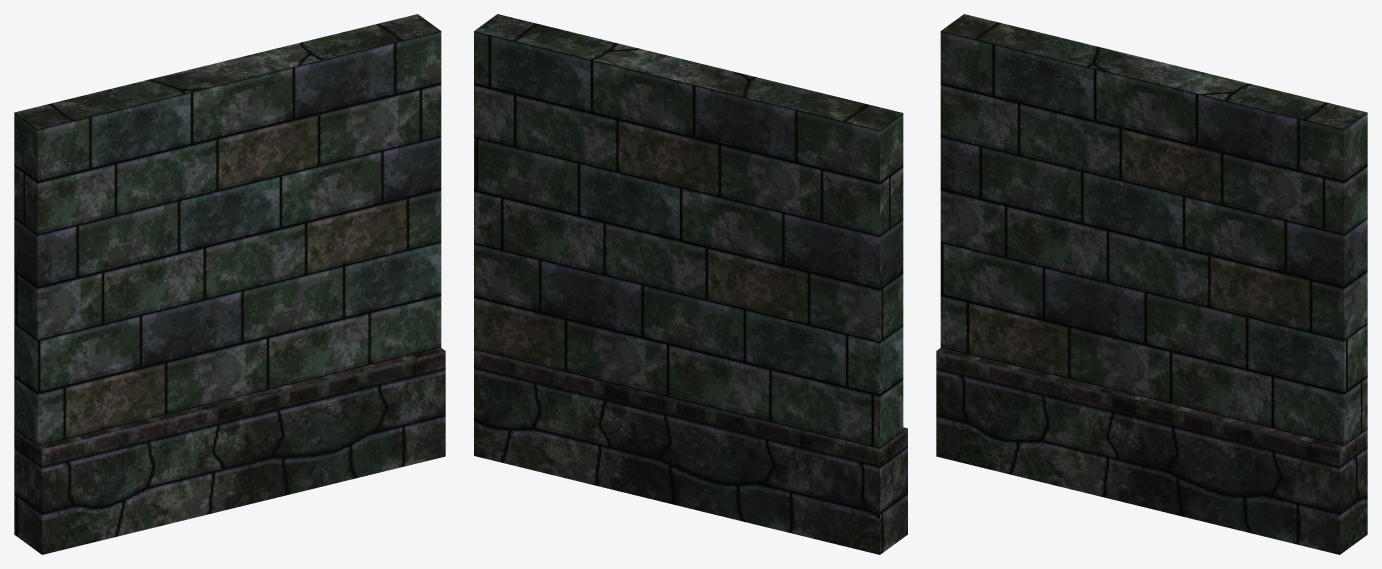
The model's file is SM_CastleWall1x1V1.fbx.
The picture shows the model from 3 angles, left to right: view 1: azimuth 30°, elevation 25°; view 2: azimuth 150°, elevation 25°; view 3: azimuth 330°, elevation 25°; orthographic projection.
Visible parts, largest first — view 1: SM_CastleWall1x1V1; view 2: SM_CastleWall1x1V1; view 3: SM_CastleWall1x1V1.
Boxes of the visible parts, x1=… form: SM_CastleWall1x1V1: x1=14, y1=14, x2=445, y2=554; SM_CastleWall1x1V1: x1=474, y1=14, x2=907, y2=554; SM_CastleWall1x1V1: x1=936, y1=14, x2=1367, y2=554.
Bounding box in the file's own units: 2000 × 2000 × 238.
